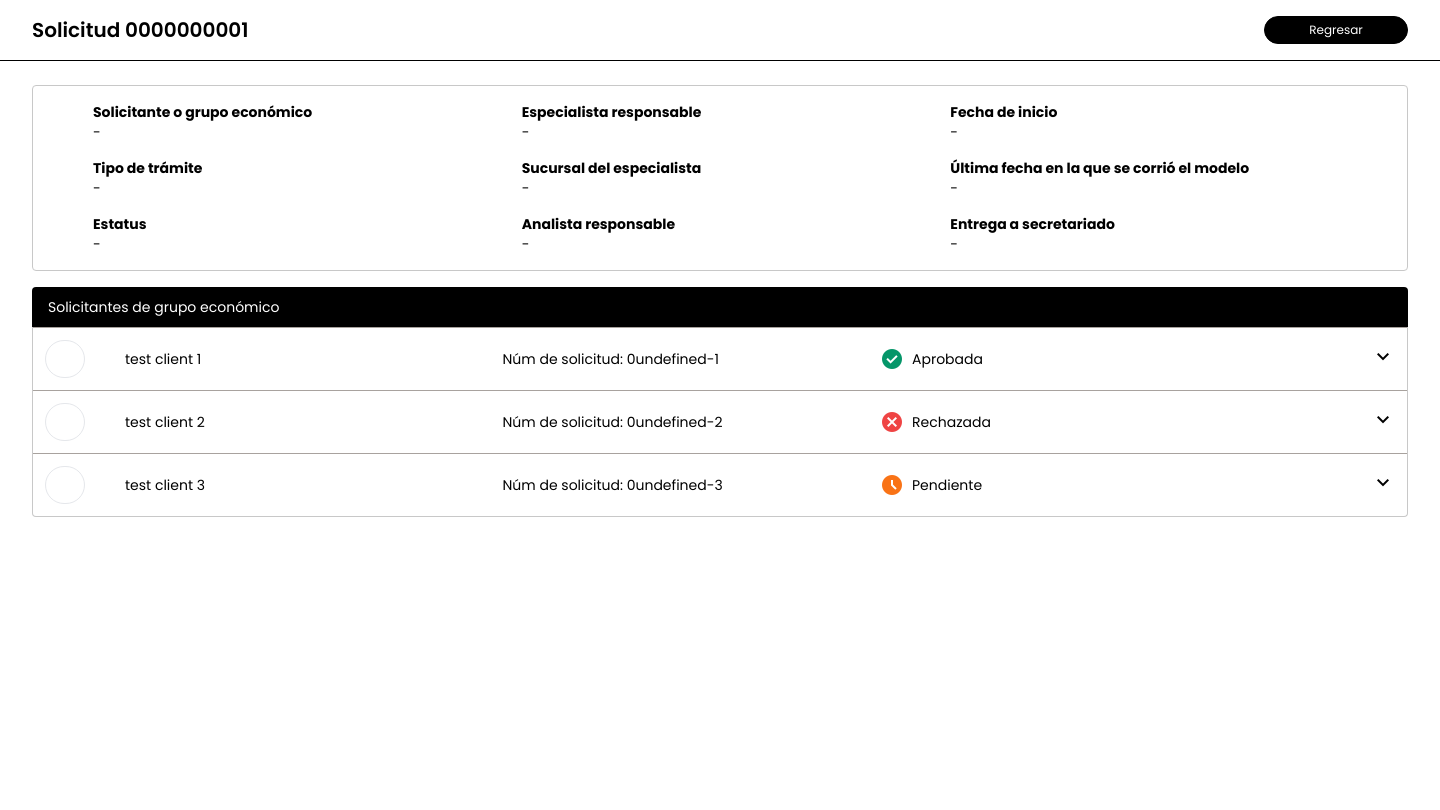
Test case: HistoryDetails page › it shows additional data when clicking on expand button
Click the button named "expand_more" in the row of "Aprobada" at (1383, 359), box x1=1371 y1=344 x2=1395 y2=374
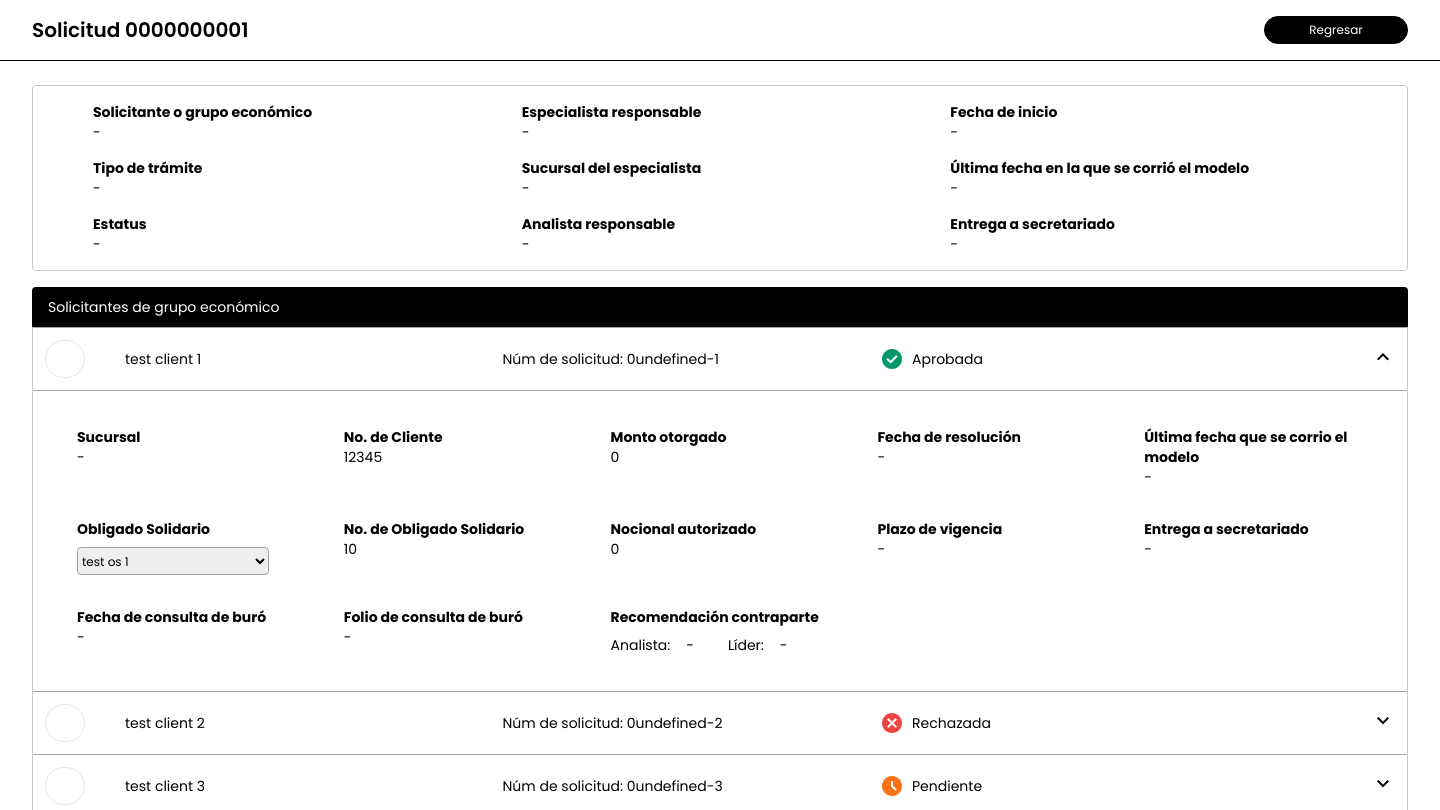
Result: the text "No. de Cliente" is shown at x1=344 y1=427 x2=443 y2=447
Result: the text "12345" is shown at x1=344 y1=447 x2=382 y2=467
